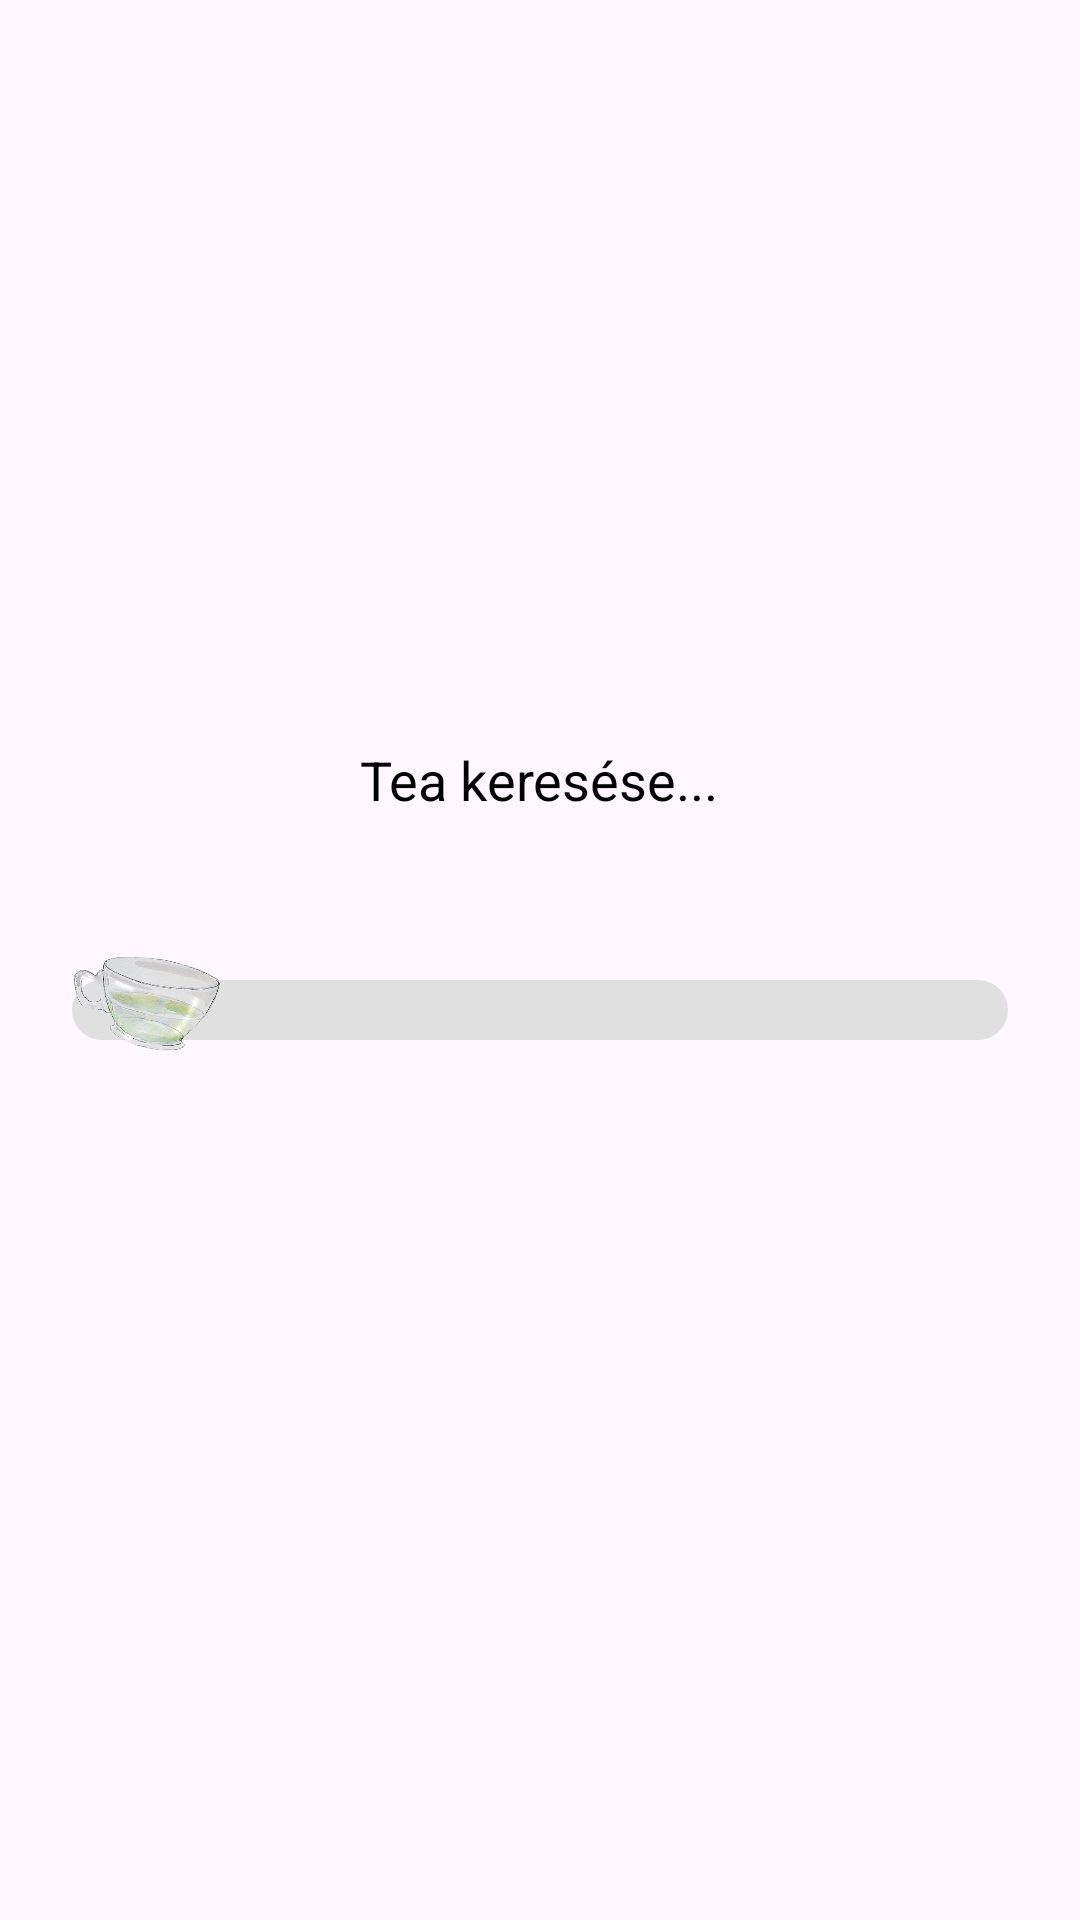

Named icons in this screenshot (1080px×1920px) and their bounding boxes, (x1, y1, x2, y2):
tea cup: (72, 957, 222, 1050)
